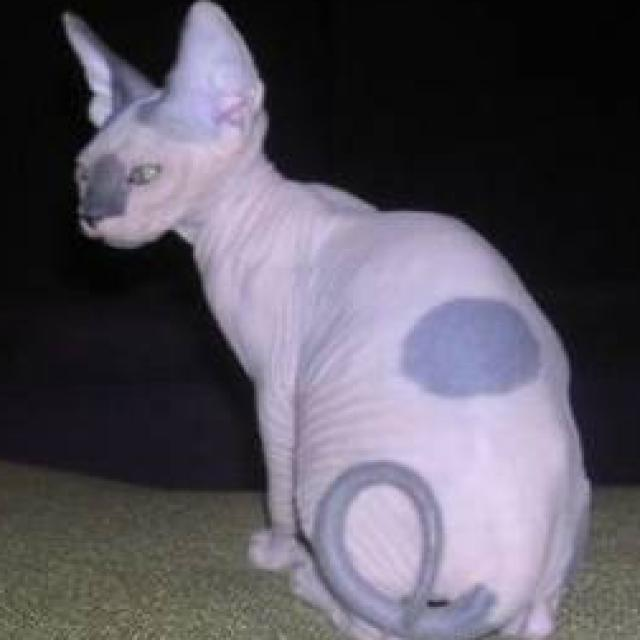Sphynx: (56, 0, 589, 640)
